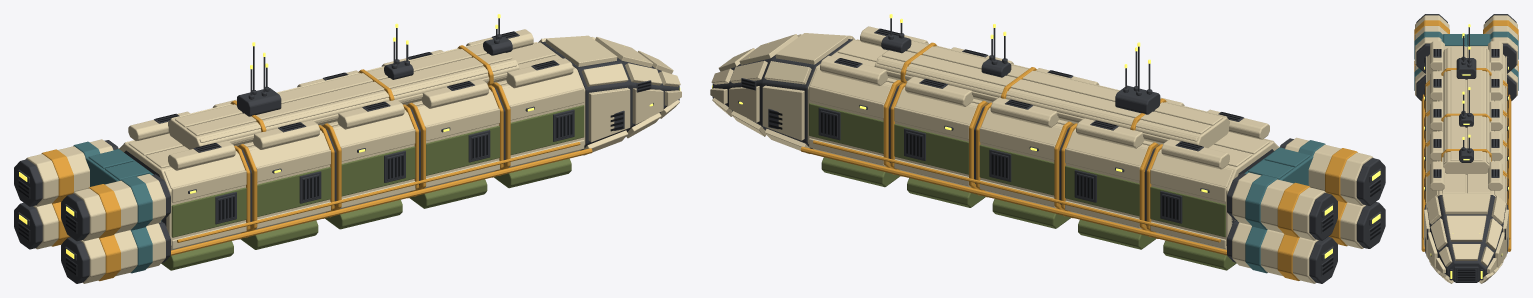
Rendered from battleship.glb.
3 renders of one model, left to right at view 1: azimuth 30°, elevation 25°; view 2: azimuth 150°, elevation 25°; view 3: azimuth 270°, elevation 25°, orthographic. The views are drawn at different scales.
Visible parts, largest first — view 1: hull body, drive body, deck body; view 2: hull body, drive body, deck body; view 3: hull body, deck body, drive body.
Boxes of the visible parts, left/top/right/bottom form: hull body: left=85, top=29, right=681, bottom=270; drive body: left=14, top=139, right=170, bottom=283; deck body: left=168, top=18, right=519, bottom=149; hull body: left=710, top=26, right=1313, bottom=270; drive body: left=1227, top=137, right=1385, bottom=283; deck body: left=874, top=18, right=1229, bottom=147; hull body: left=1421, top=34, right=1511, bottom=283; deck body: left=1441, top=27, right=1491, bottom=174; drive body: left=1414, top=14, right=1518, bottom=100.
Size of the model in its own units: 21.4 by 6.15 by 4.26.
